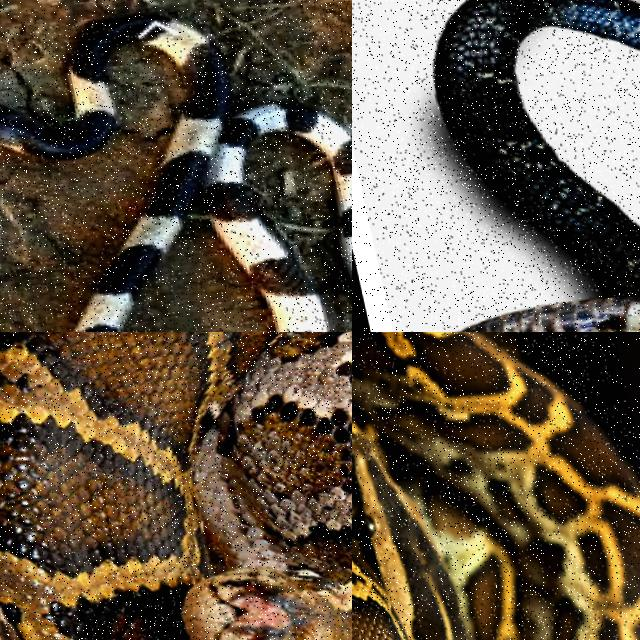Bungarus candidus: (0, 15, 351, 331)
Naja siamensis: (434, 0, 639, 331)
Python bivittatus: (0, 332, 351, 639), (352, 332, 639, 639)
snake: (0, 15, 351, 331), (0, 332, 351, 639), (352, 332, 639, 639), (434, 0, 639, 331)
